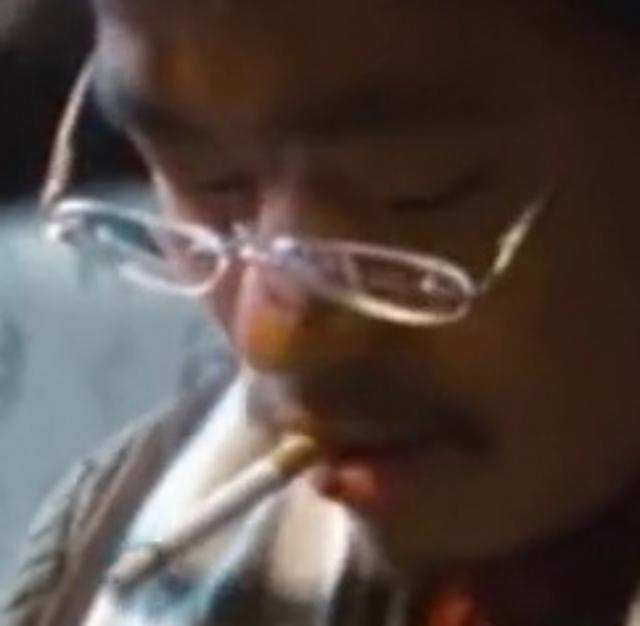Cigarette: (105, 427, 328, 596)
